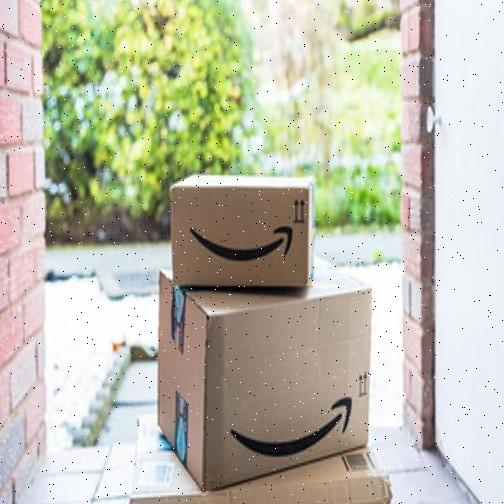Amazon: (156, 254, 378, 494), (131, 413, 397, 504), (170, 172, 314, 293)
